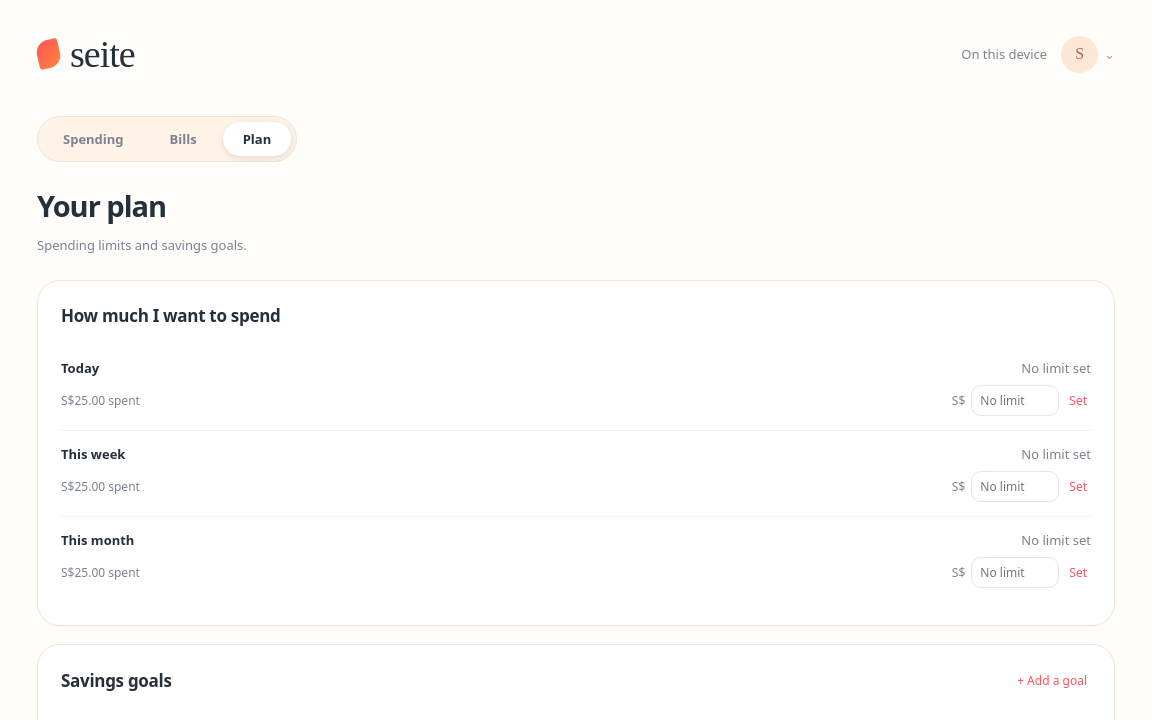
Test: Plan page › sets a weekly limit and shows what is left
The width and height of the screenshot is (1152, 720).
Type "100" into the field named "This week limit (SGD)". click: (1015, 486)
box: [971, 471, 1059, 502]
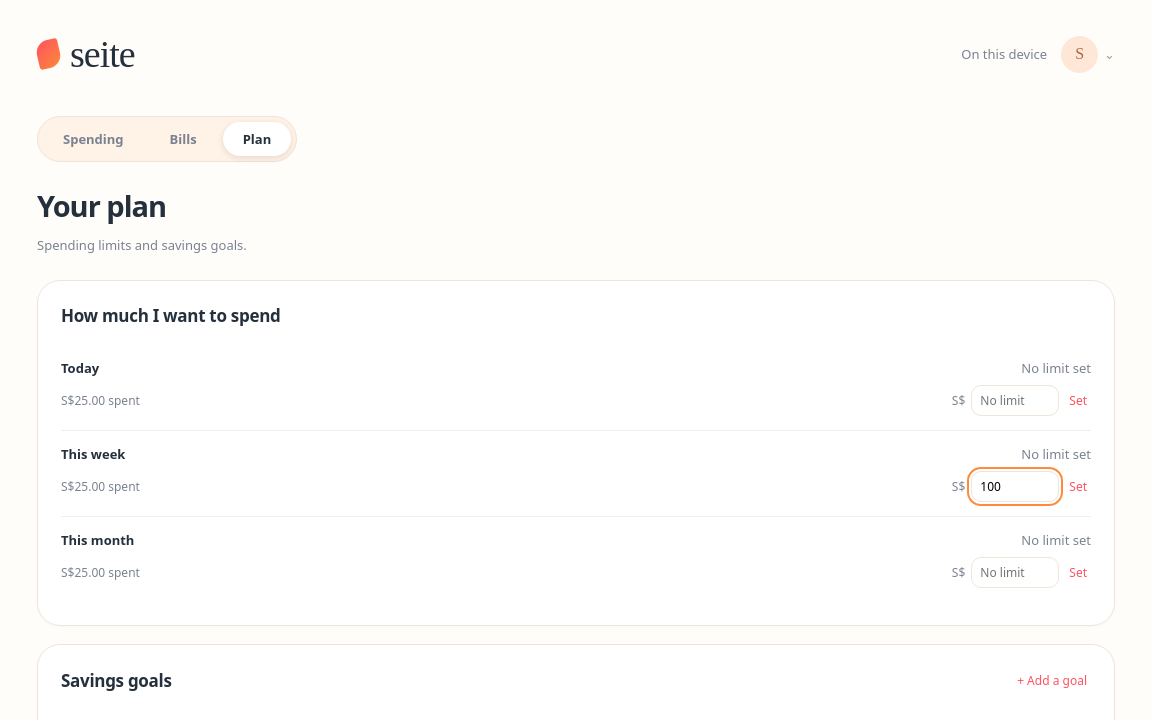
Click the 2nd button "Set". click: (1078, 486)
box: [1065, 474, 1091, 499]
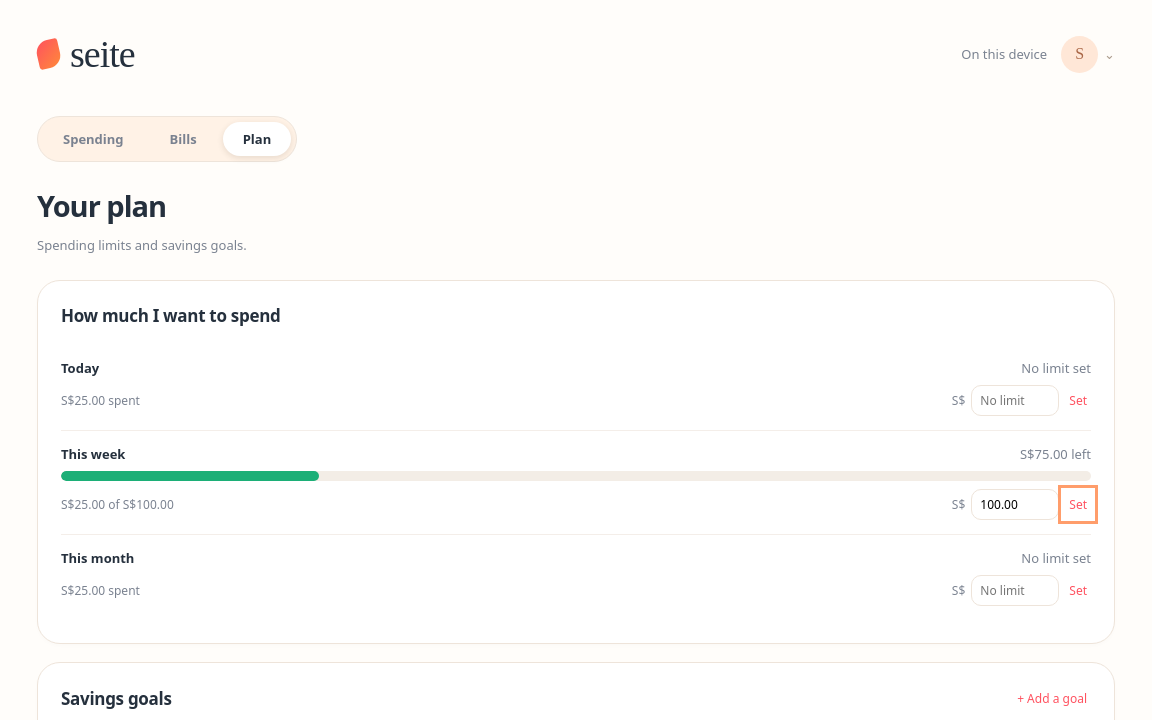
Check: the text "S$75.00 left" is shown, box [1020, 445, 1091, 463]
